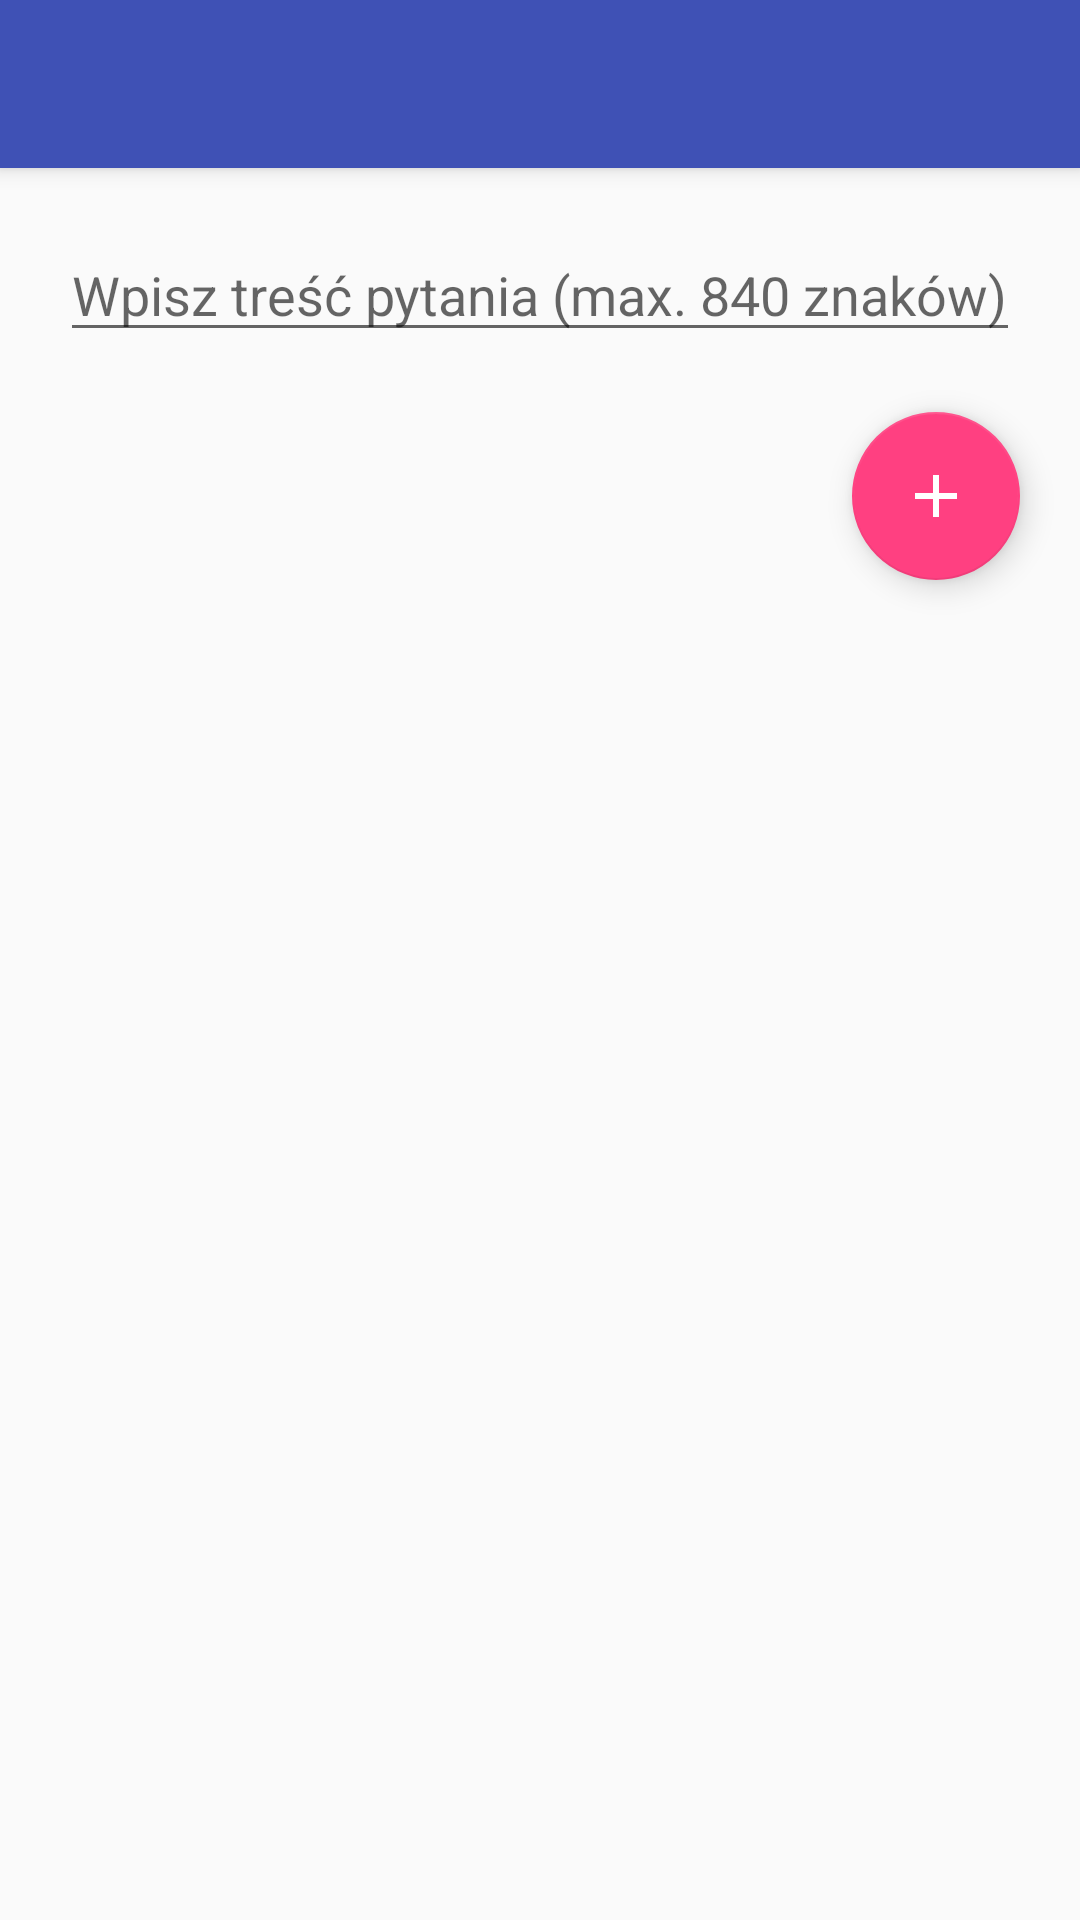

Icon bounding boxes for this 1080px×1920px phone screenshot, format (x1, y1, x2, y2):
join askroom: (852, 412, 1020, 580)
